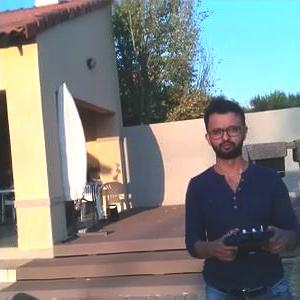follow: (182, 96, 299, 299)
